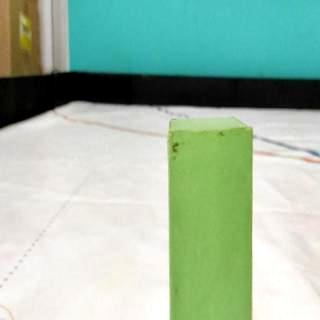greenbox: (168, 118, 252, 320)
